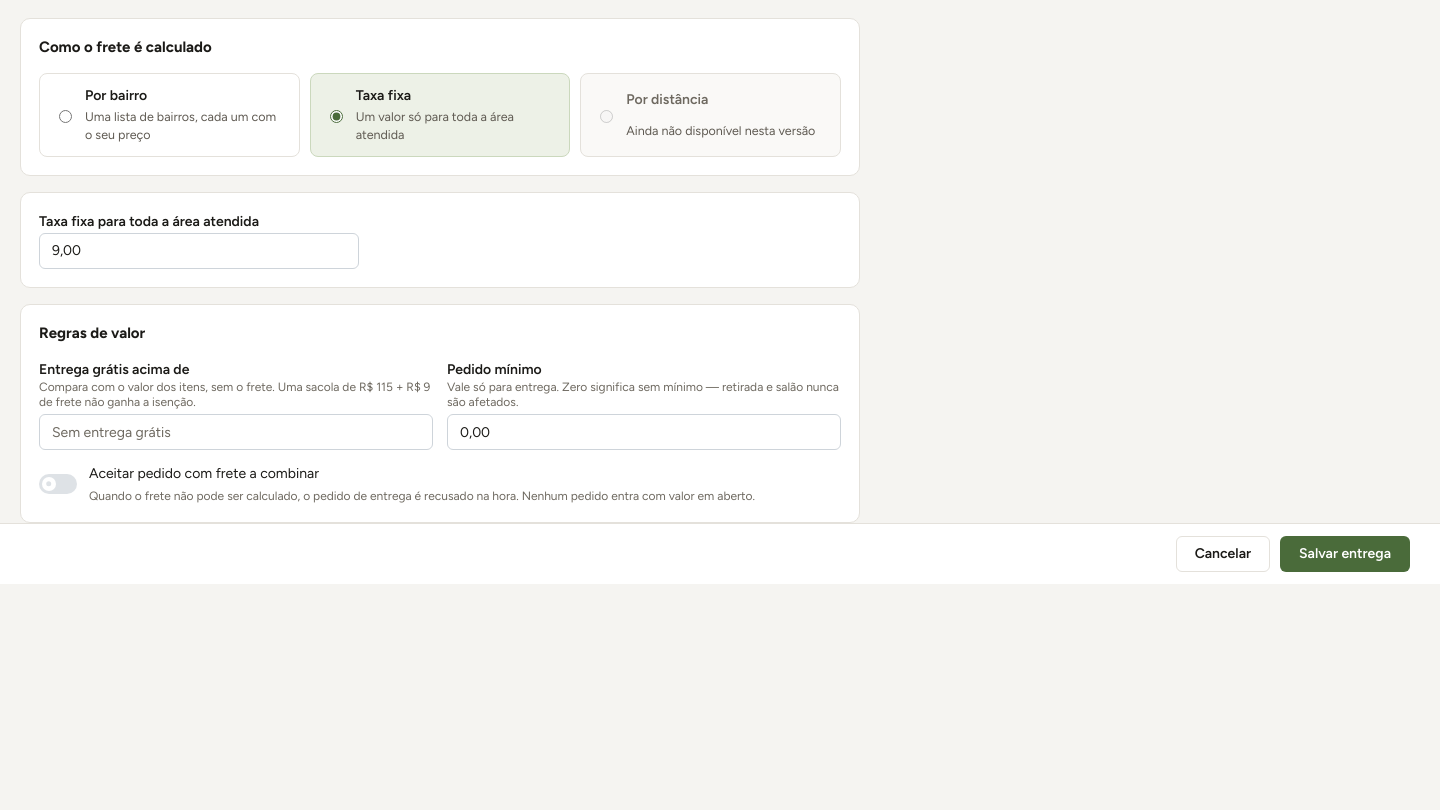
Test: DeliveryPage › salva os bairros antes do restaurante
Step 1. Click the radio button labelled "Por bairro" → {"x": 66, "y": 116}, box [59, 110, 72, 123]
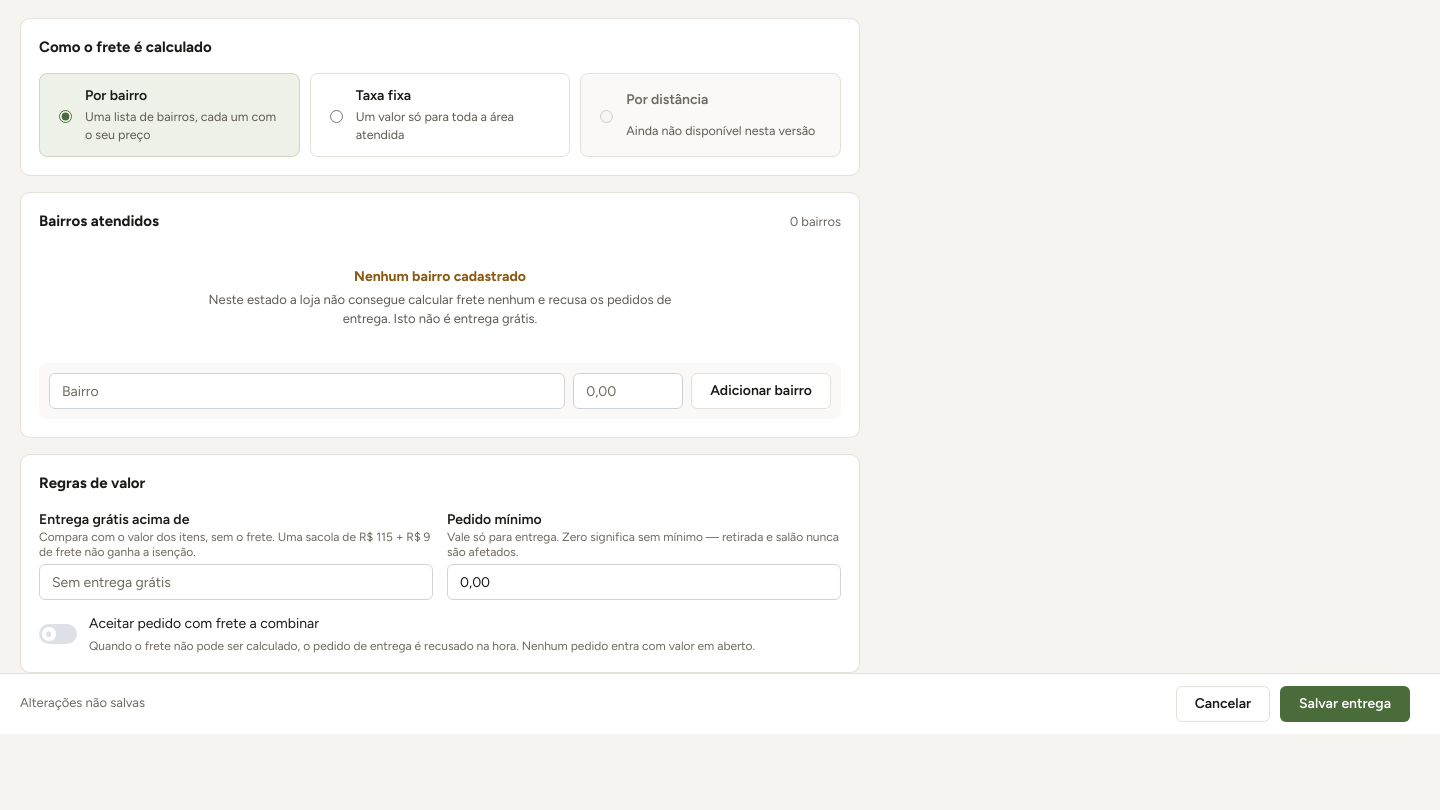
Step 2. Type "Centro" into the field named "Novo bairro" → {"x": 307, "y": 391}, box [49, 373, 565, 409]
Step 3. Type "5,00" into the field named "Frete do novo bairro" → {"x": 628, "y": 391}, box [573, 373, 683, 409]
Step 4. Click the button "Adicionar bairro" → {"x": 761, "y": 391}, box [691, 373, 831, 409]
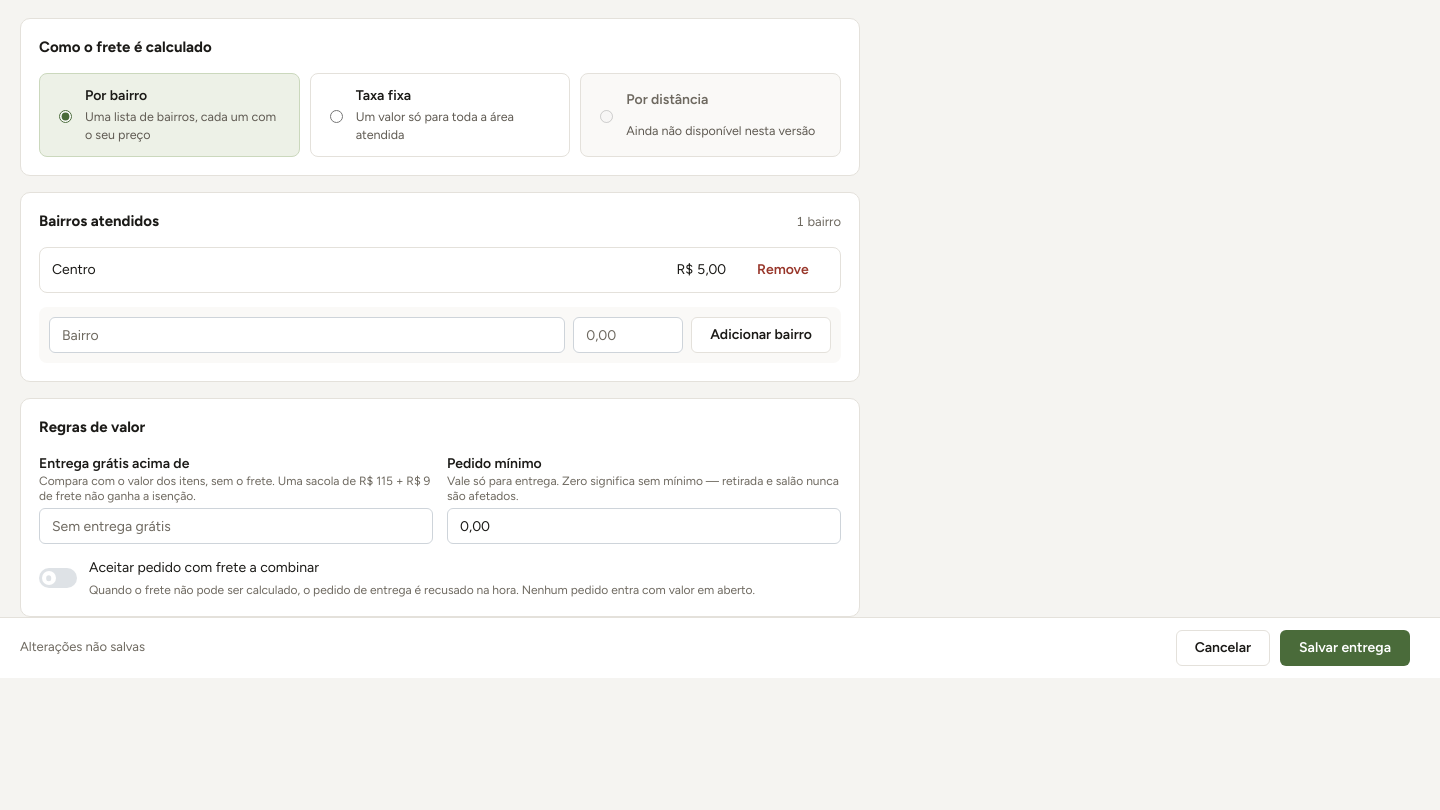
Step 5. Type "Vila Madalena" into the field named "Novo bairro" → {"x": 307, "y": 335}, box [49, 317, 565, 353]
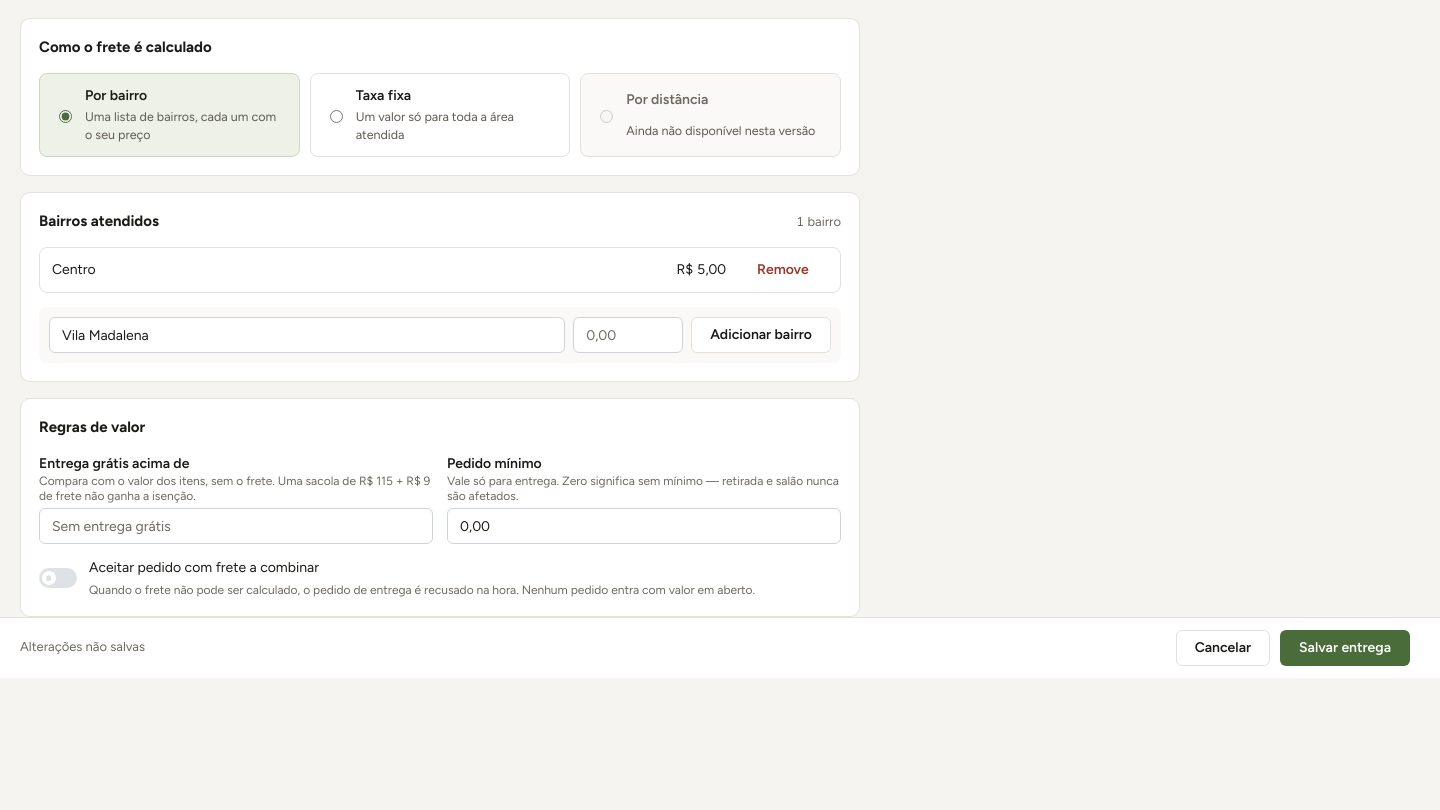
Step 6. Type "8,00" into the field named "Frete do novo bairro" → {"x": 628, "y": 335}, box [573, 317, 683, 353]
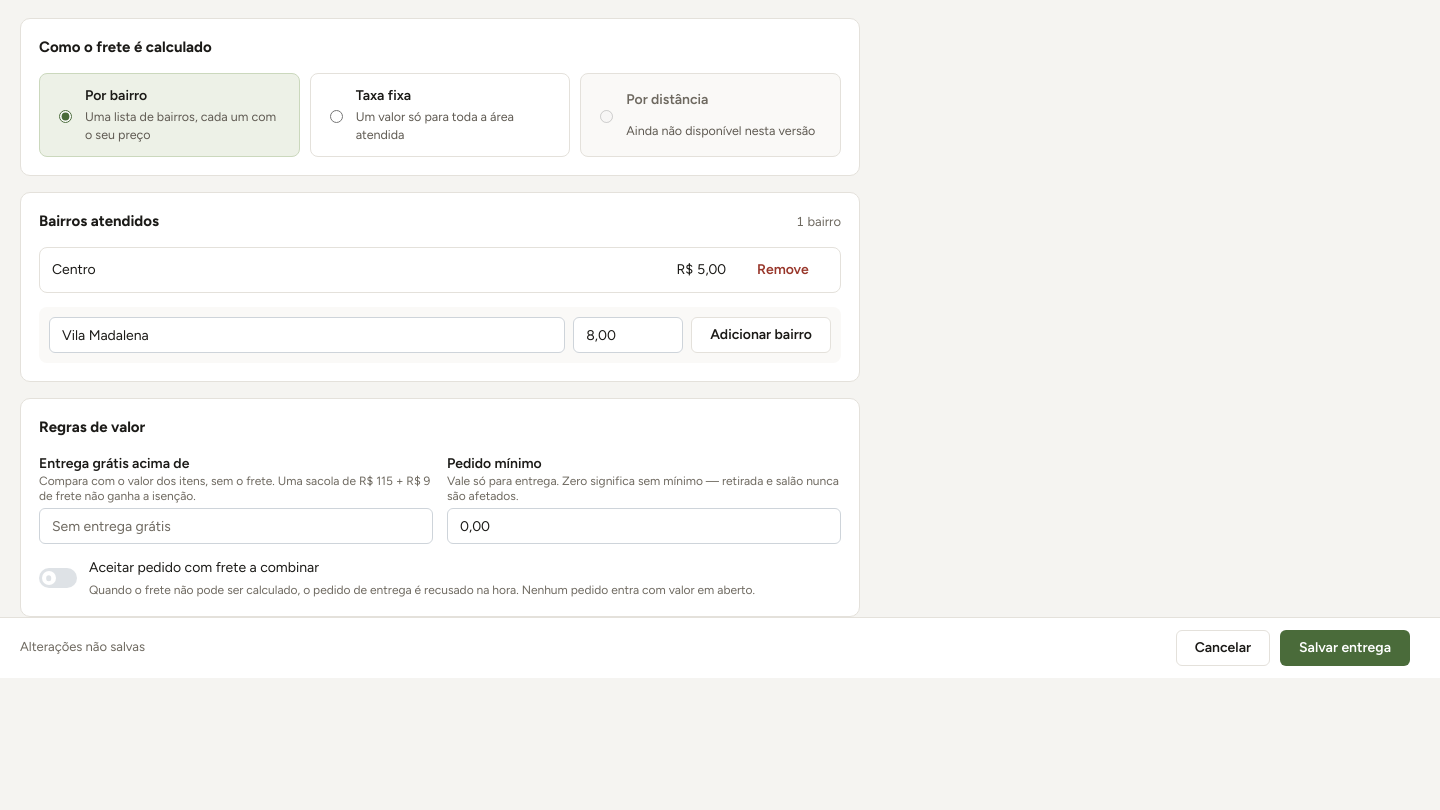
Step 7. Click the button "Adicionar bairro" → {"x": 761, "y": 335}, box [691, 317, 831, 353]
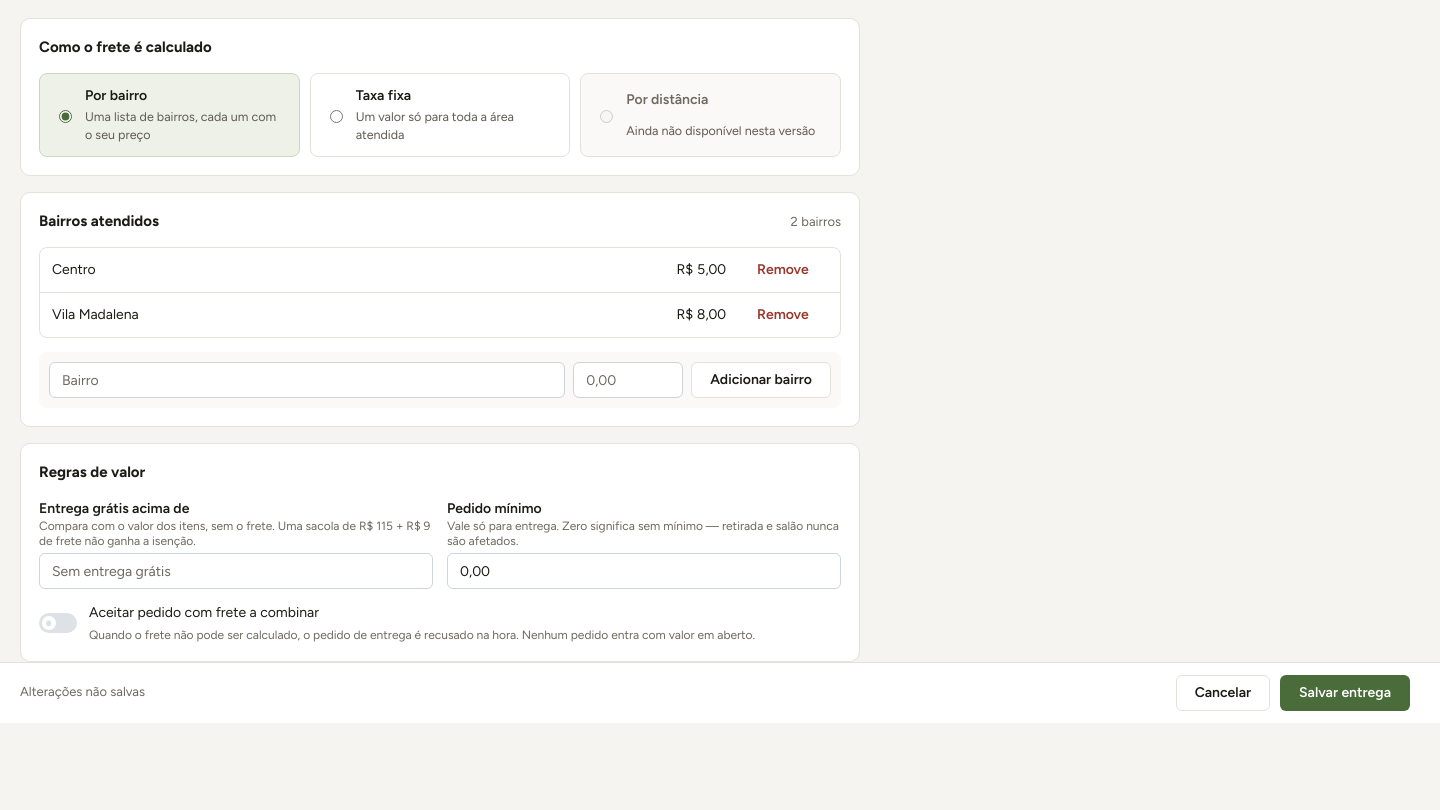
Step 8. Click the button "Salvar entrega" → {"x": 1345, "y": 693}, box [1280, 675, 1410, 711]
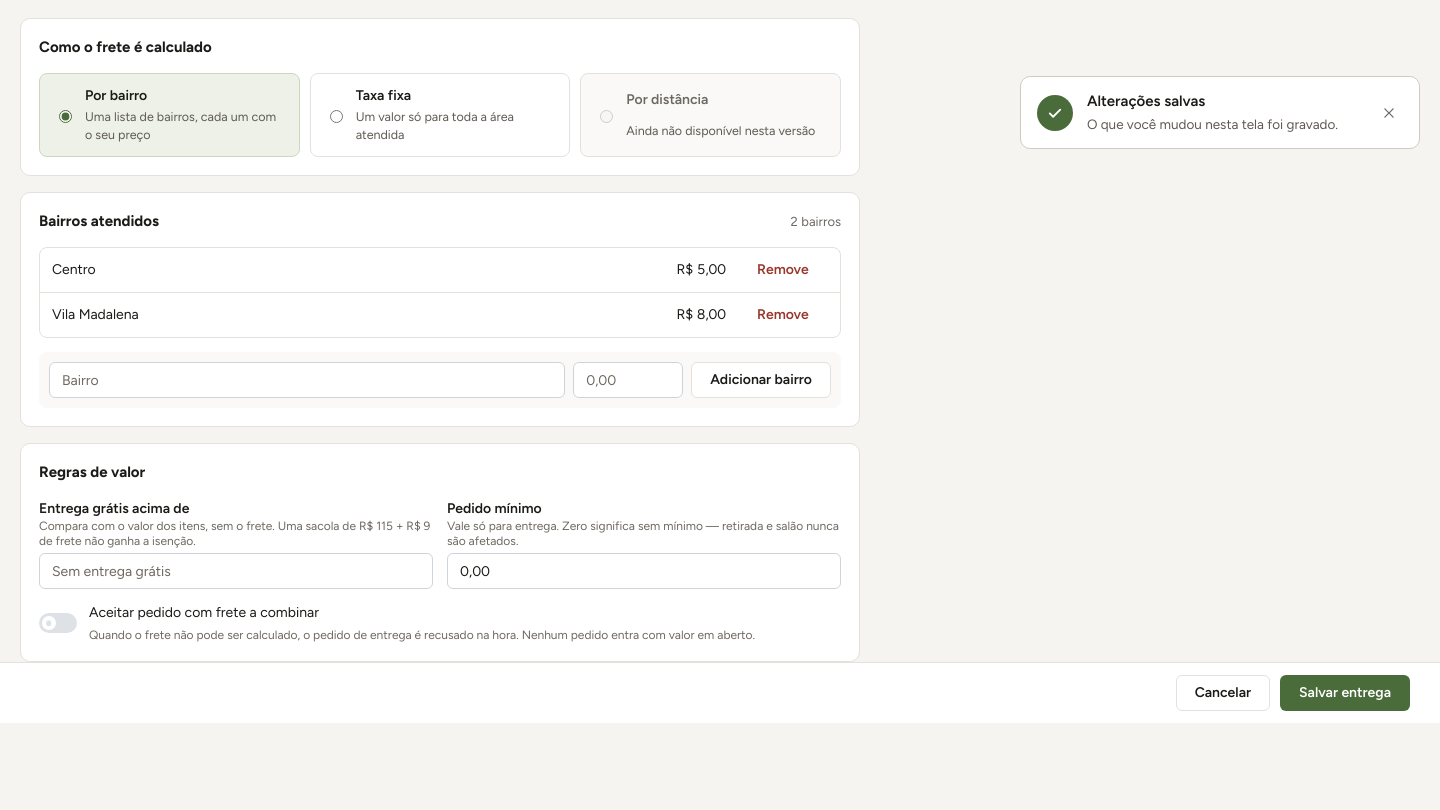
Check: the text "Alterações salvas" is shown, box [1087, 92, 1205, 110]
